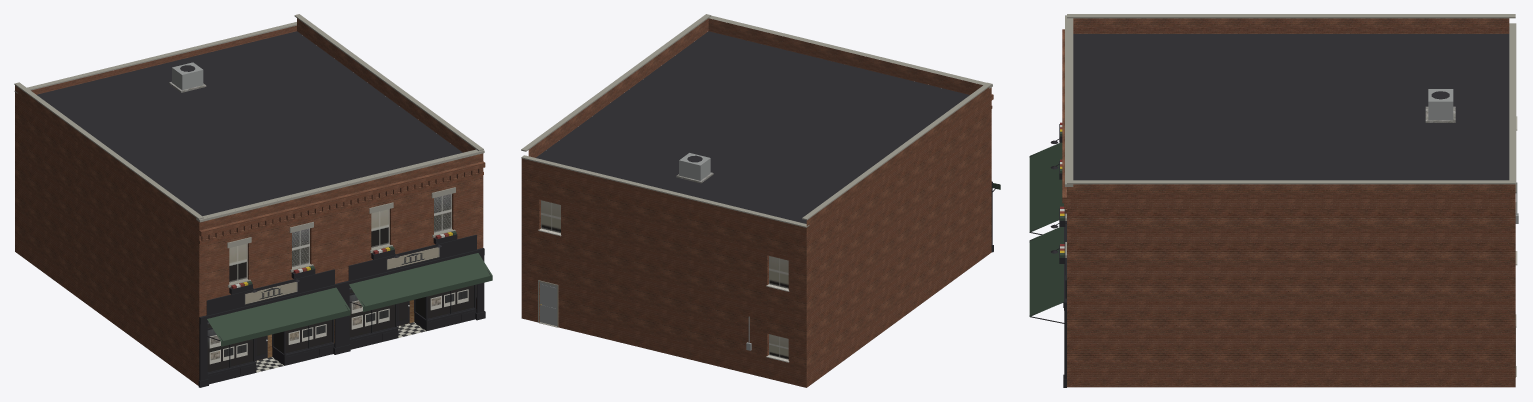
The model's file is town_shop_realty 2.gltf.
3 renders of one model, left to right at view 1: azimuth 30°, elevation 25°; view 2: azimuth 150°, elevation 25°; view 3: azimuth 270°, elevation 25°, orthographic. The views are drawn at different scales.
Visible parts, largest first — view 1: TownShopRealty_Walls, TownShopRealty_RoofDeck, TownShopRealty_Awning, TownShopRealty_Window, TownShopRealty_Coping, TownShopRealty_ParapetIn, TownShopRealty_Cornice, TownShopRealty_Iron, TownShopRealty_SignBand, TownShopRealty_Bulkheads, TownShopRealty_Photos, TownShopRealty_Sign (+5 smaller); view 2: TownShopRealty_Walls, TownShopRealty_RoofDeck, TownShopRealty_ParapetIn, TownShopRealty_Coping, TownShopRealty_Window, TownShopRealty_HVAC, TownShopRealty_ClosedDoor, TownShopRealty_Trim; view 3: TownShopRealty_Walls, TownShopRealty_RoofDeck, TownShopRealty_Coping, TownShopRealty_ParapetIn, TownShopRealty_Awning, TownShopRealty_HVAC, TownShopRealty_Cornice.
Boxes of the visible parts, x1,y1,x2,y2 form: TownShopRealty_Walls: (15, 85, 483, 385); TownShopRealty_RoofDeck: (36, 31, 462, 216); TownShopRealty_Awning: (207, 253, 492, 346); TownShopRealty_Window: (207, 194, 474, 372); TownShopRealty_Coping: (14, 14, 484, 222); TownShopRealty_ParapetIn: (31, 18, 475, 152); TownShopRealty_Cornice: (199, 161, 485, 243); TownShopRealty_Iron: (198, 248, 485, 387); TownShopRealty_SignBand: (206, 234, 476, 315); TownShopRealty_Bulkheads: (207, 308, 476, 384); TownShopRealty_Photos: (209, 289, 468, 364); TownShopRealty_Sign: (244, 247, 439, 304); TownShopRealty_Walls: (521, 87, 991, 387); TownShopRealty_RoofDeck: (536, 31, 969, 223); TownShopRealty_ParapetIn: (528, 18, 982, 157); TownShopRealty_Coping: (521, 14, 992, 227); TownShopRealty_Window: (541, 200, 788, 359); TownShopRealty_HVAC: (676, 153, 713, 183); TownShopRealty_ClosedDoor: (540, 282, 556, 325); TownShopRealty_Trim: (538, 228, 789, 362); TownShopRealty_Walls: (1067, 184, 1515, 387); TownShopRealty_RoofDeck: (1073, 34, 1509, 180); TownShopRealty_Coping: (1065, 14, 1516, 192); TownShopRealty_ParapetIn: (1073, 18, 1509, 33); TownShopRealty_Awning: (1029, 142, 1063, 316); TownShopRealty_HVAC: (1425, 89, 1455, 122); TownShopRealty_Cornice: (1062, 29, 1066, 213).
Size of what is drawn, in the model's own units: 16.1 by 9.21 by 19.62.
Materials: 2 (2 with a texture image).
